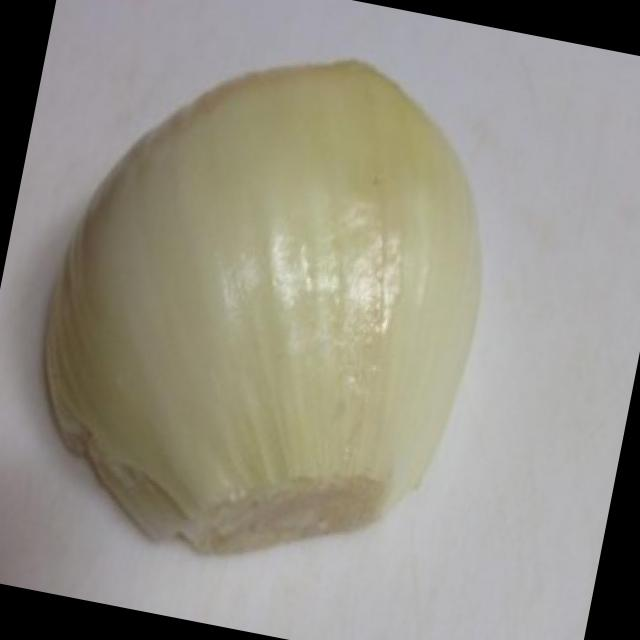Onion: (0, 5, 528, 612)
